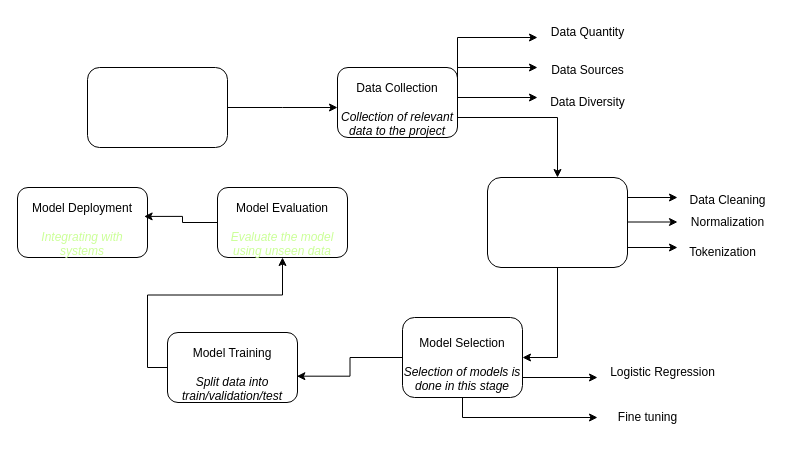
Some shapes in this 795 by 449 pixel diagram are drawn without their labels. Each missing label, with the centre of its shape:
"Data Processing Processing the data to obtain relevant information" belongs at (557,222).
"Problem Definition Define the problem to be solved" belongs at (157,107).
